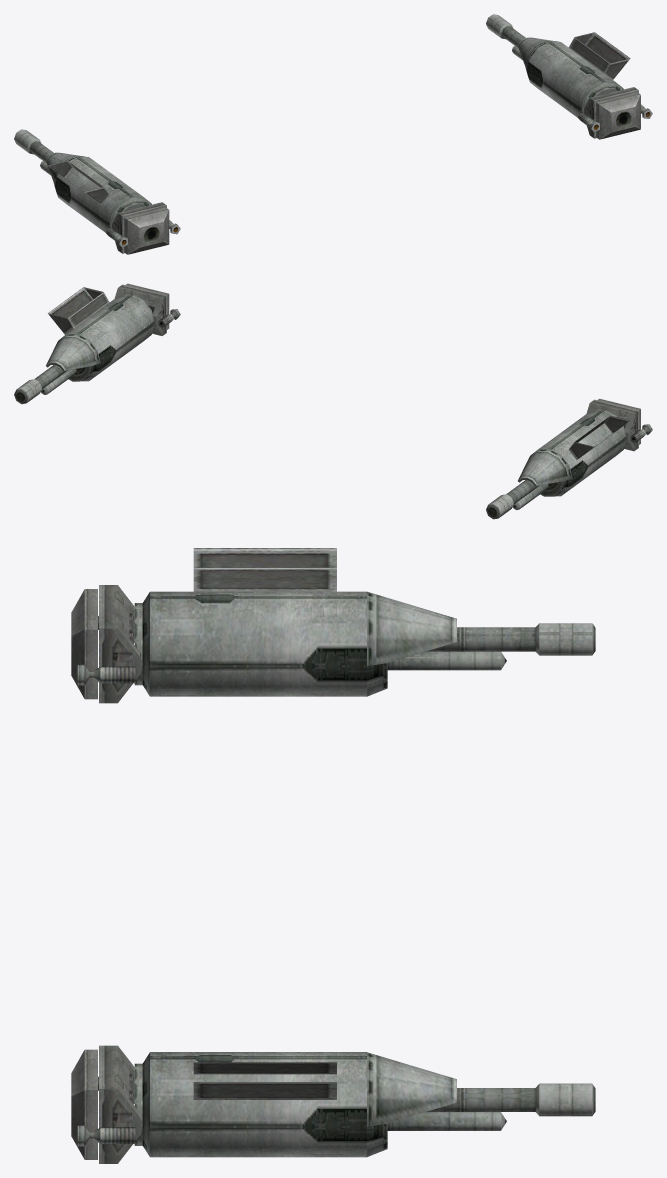
Rendered from black_sun_fighter_medium_weapon1_s03_l0.fbx.
3 renders of one model, top to bottom at view 1: azimuth 30°, elevation 25°; view 2: azimuth 150°, elevation 25°; view 3: azimuth 270°, elevation 25°, orthographic. The views are drawn at different scales.
Visible parts, largest first — view 1: mesh_node; view 2: mesh_node; view 3: mesh_node.
Part boxes in pixels (x1,y1,x2,y2): mesh_node: (14,14,652,254); mesh_node: (14,283,652,519); mesh_node: (71,548,595,1163).
Size of the model in its own units: 13.83 by 1.3 by 5.74.
Materials: 1 (1 with a texture image).
